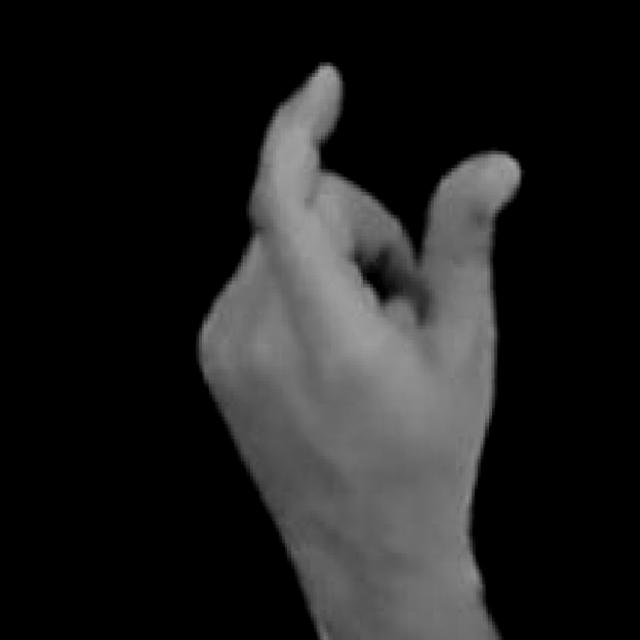U: (189, 52, 538, 550)
